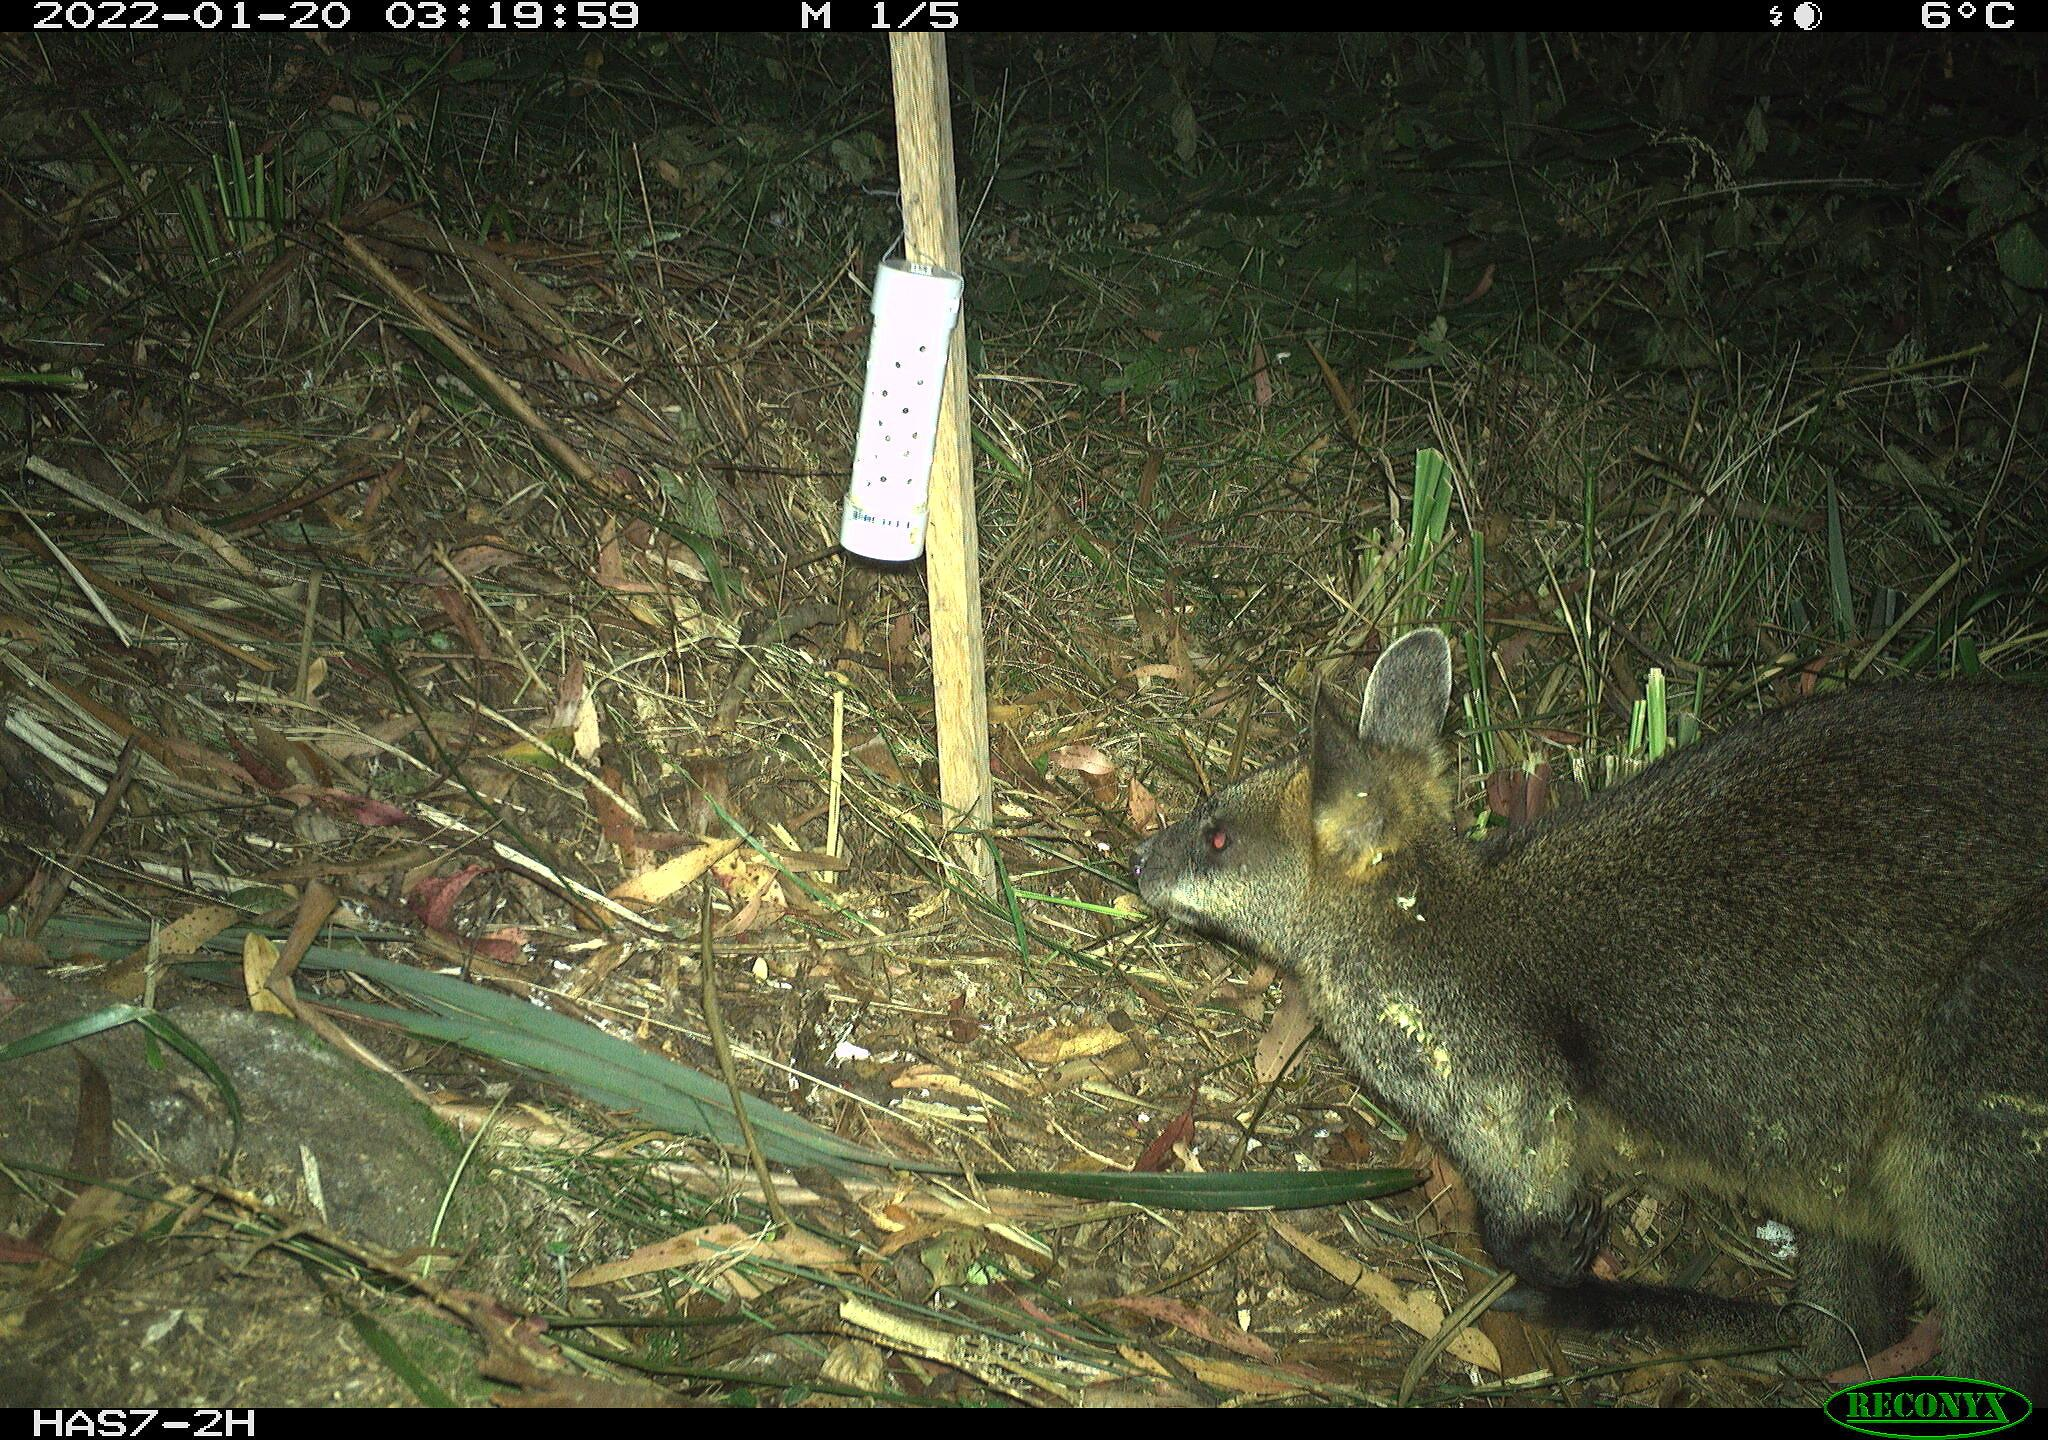Swamp wallaby: (1136, 606, 2048, 1375)
